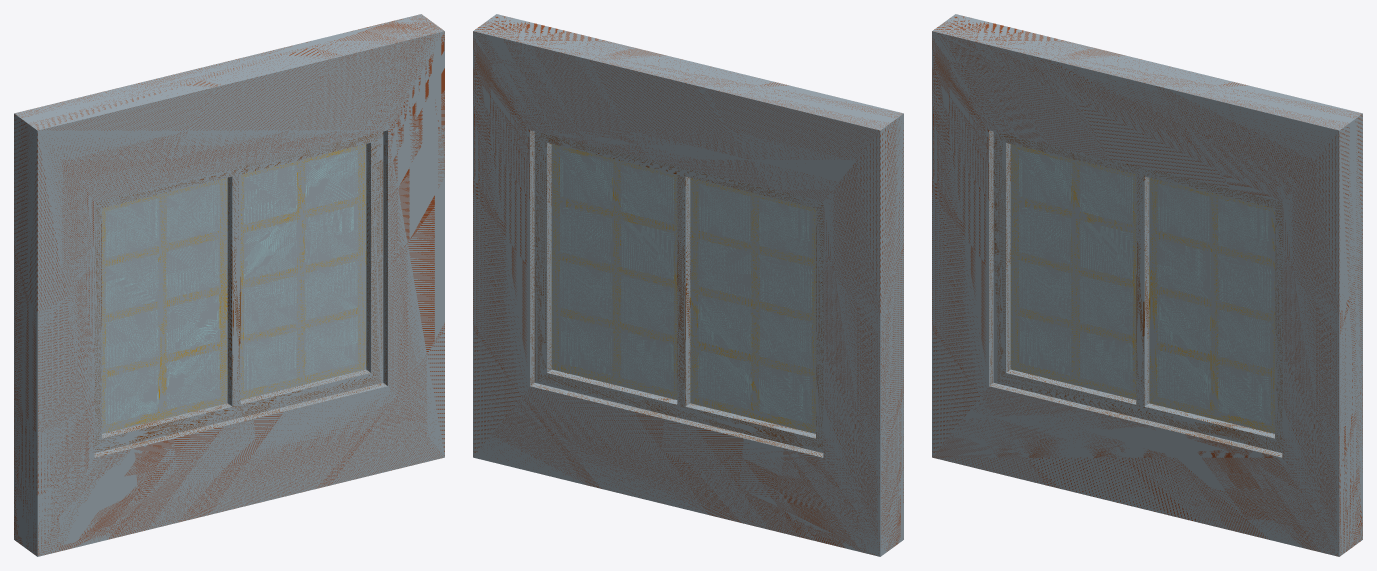
The model's file is wall_window_6.fbx.
3 views of the same model, side by side, from view 1: azimuth 30°, elevation 25°; view 2: azimuth 150°, elevation 25°; view 3: azimuth 330°, elevation 25° (orthographic).
Visible parts, largest first — view 1: Mesh1_window_7_1 Model; view 2: Mesh1_window_7_1 Model; view 3: Mesh1_window_7_1 Model.
Boxes of the visible parts, x1,y1,x2,y2 form: Mesh1_window_7_1 Model: (14,14,444,556); Mesh1_window_7_1 Model: (473,14,903,556); Mesh1_window_7_1 Model: (932,14,1362,556).
Size of the model in its own units: 1 by 1 by 0.1.
